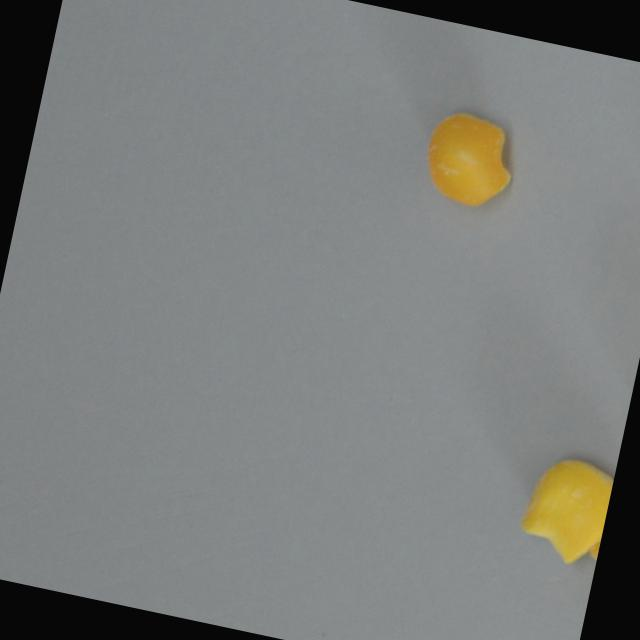dañado: (414, 99, 525, 217), (569, 511, 606, 626)
no_canjicado: (508, 444, 617, 571)
